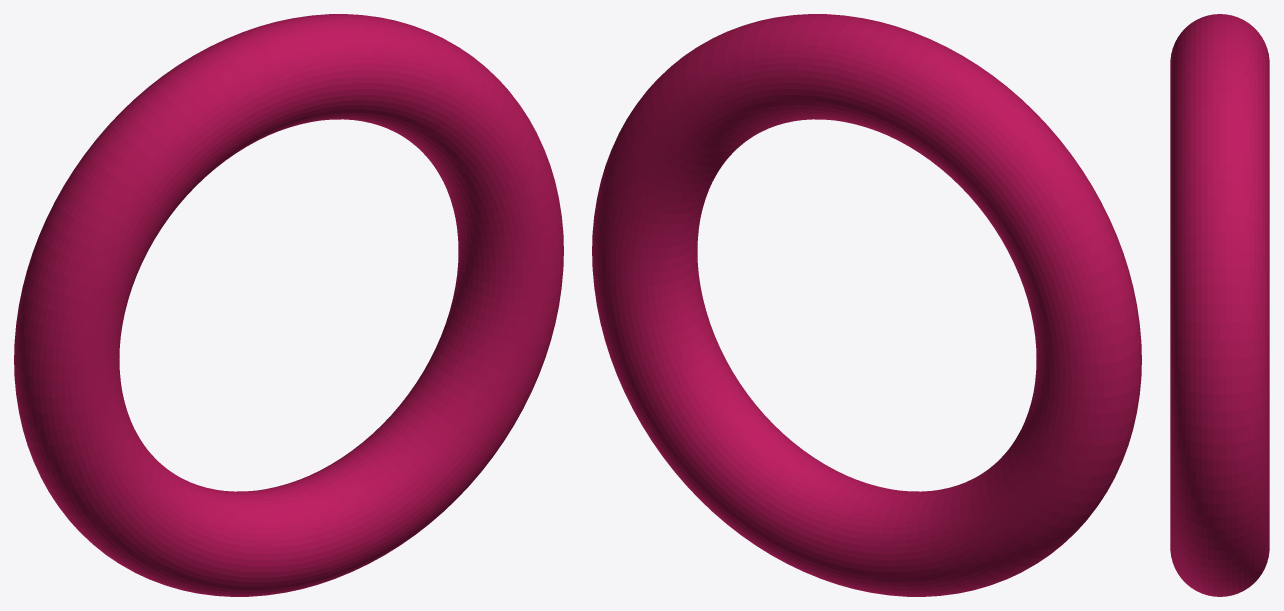
The picture shows the model from 3 angles, left to right: view 1: azimuth 30°, elevation 25°; view 2: azimuth 150°, elevation 25°; view 3: azimuth 270°, elevation 25°; orthographic projection. The views are drawn at different scales.
Parts seen in each view (by area): view 1: world; view 2: world; view 3: world.
Part boxes in pixels (<box>): world: <box>14,14,563,596</box>; world: <box>592,14,1141,596</box>; world: <box>1170,14,1269,596</box>.
Size of the model in its own units: 28.93 by 28.93 by 4.92.
